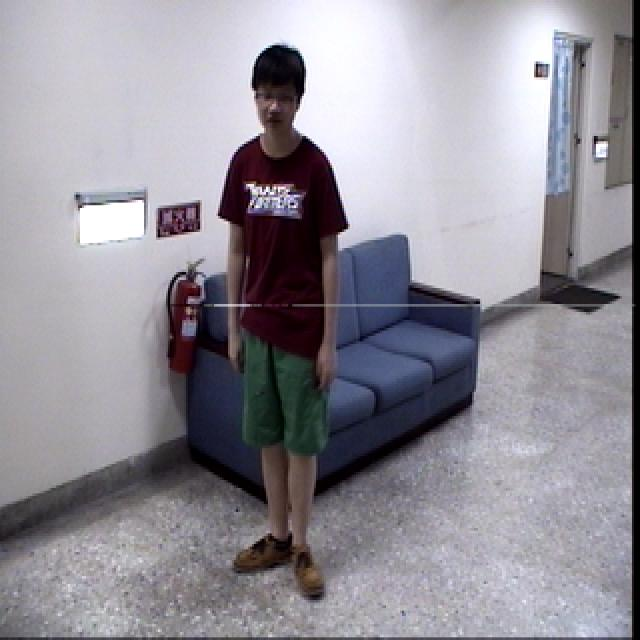stand: (212, 39, 366, 610)
